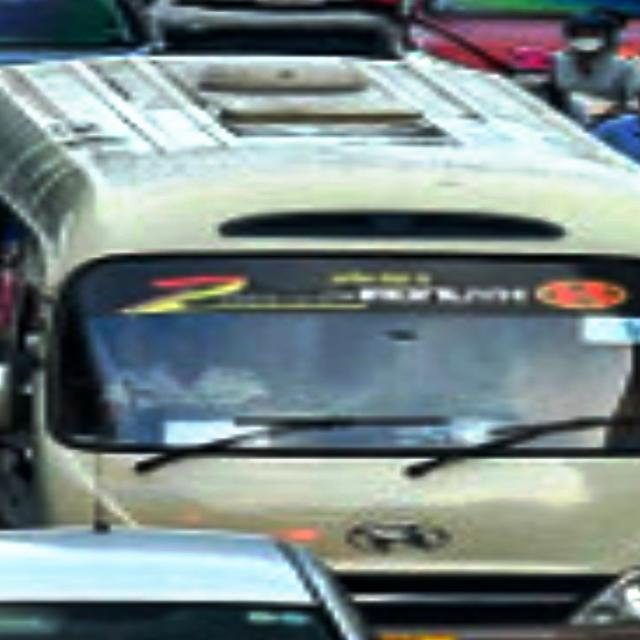Car: (0, 70, 630, 640), (0, 523, 393, 640)
